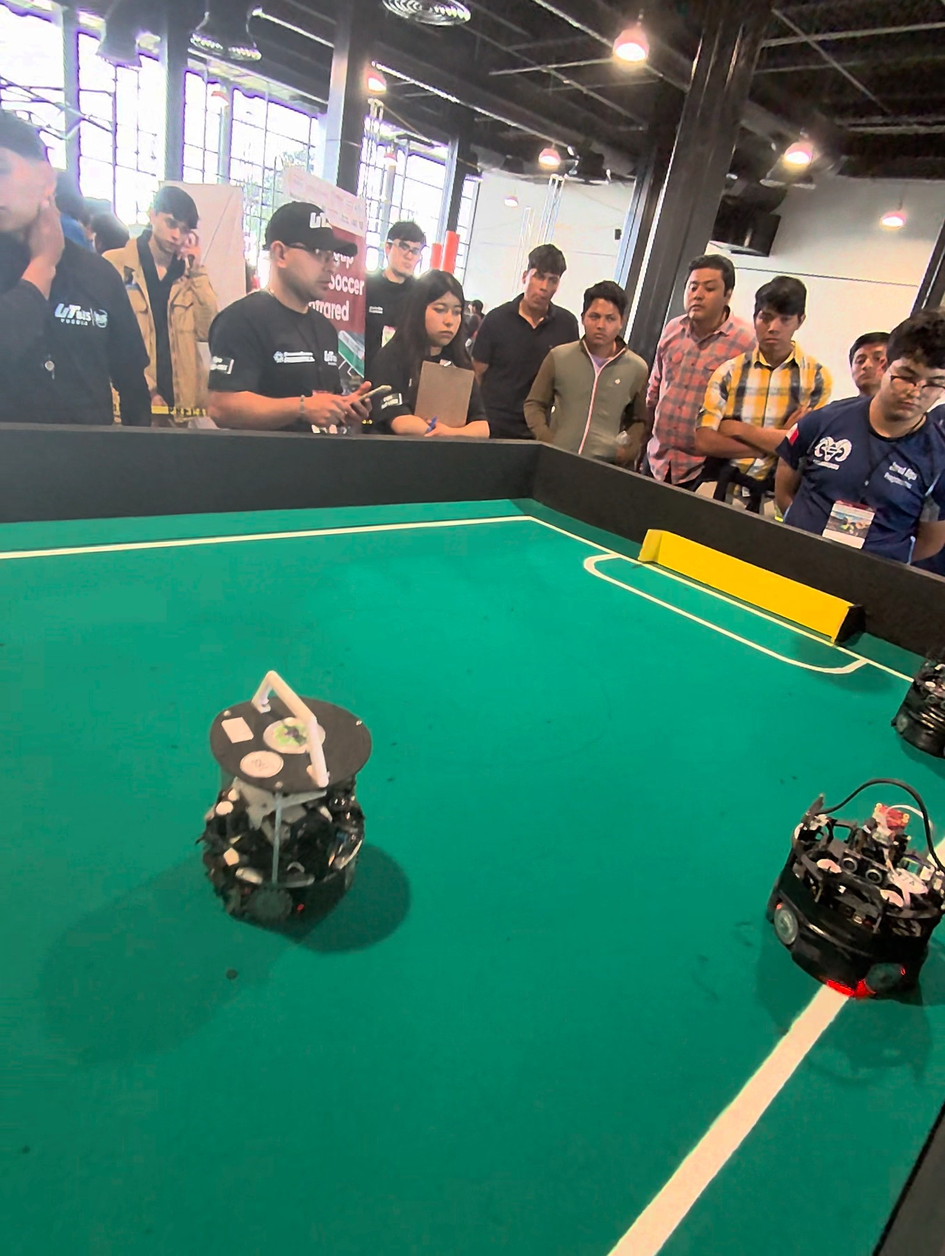Robot: (186, 660, 388, 952), (768, 761, 941, 1013), (894, 638, 945, 764)
